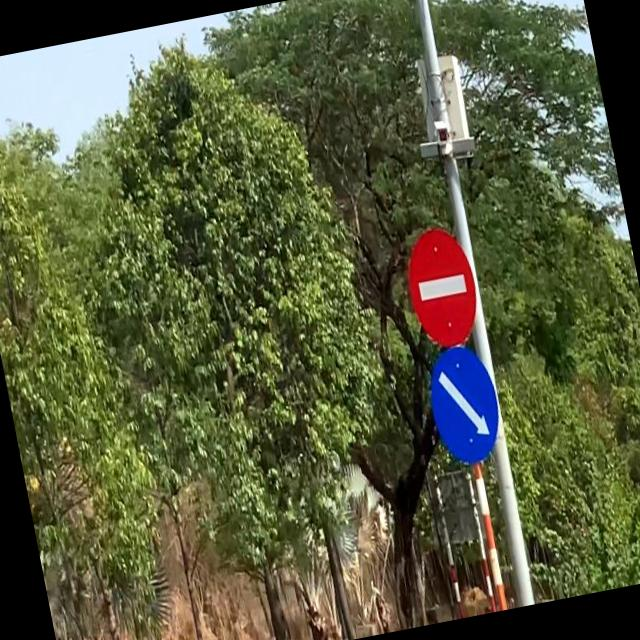P-102: (398, 220, 486, 356)
R-302a: (419, 340, 506, 472)
